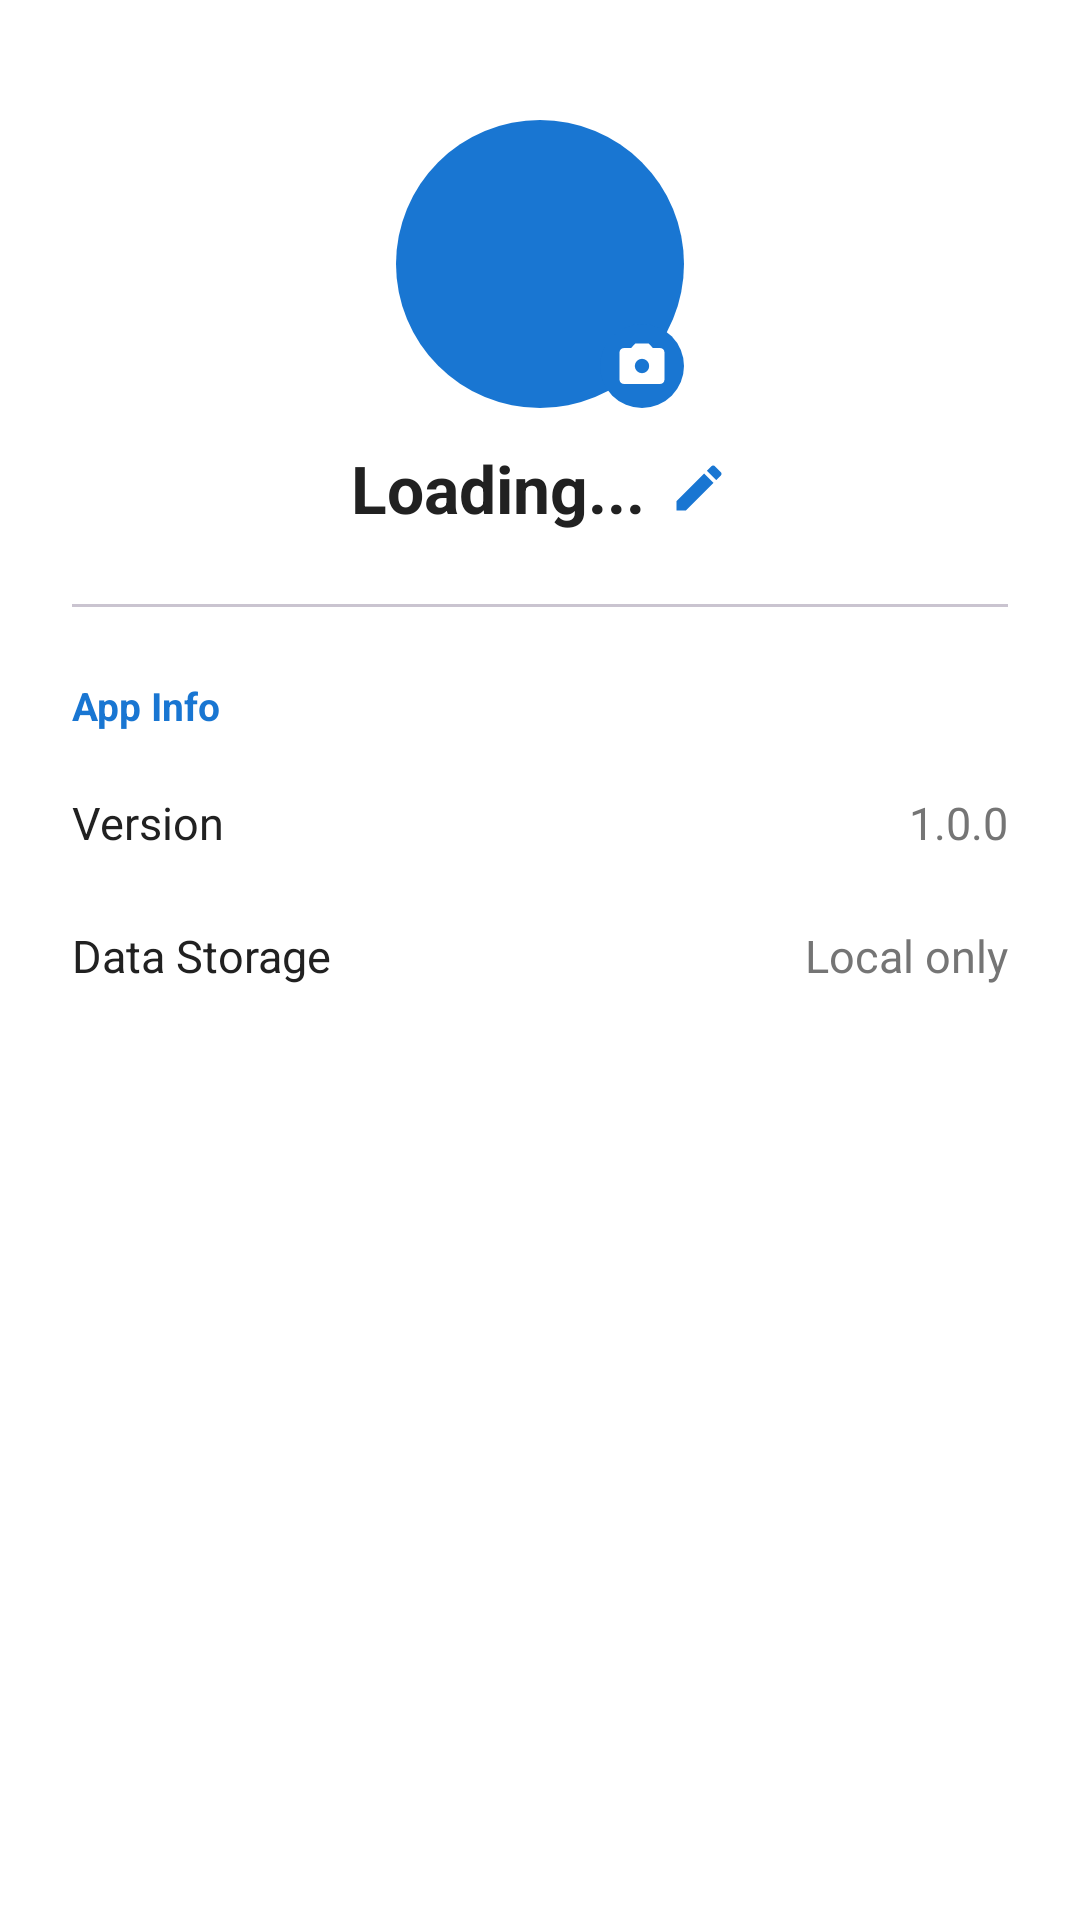

Named icons in this screenshot (1080w x 1920h) and their centers, point (x, y):
Change profile picture: point (642, 366)
Edit name: point (699, 488)
